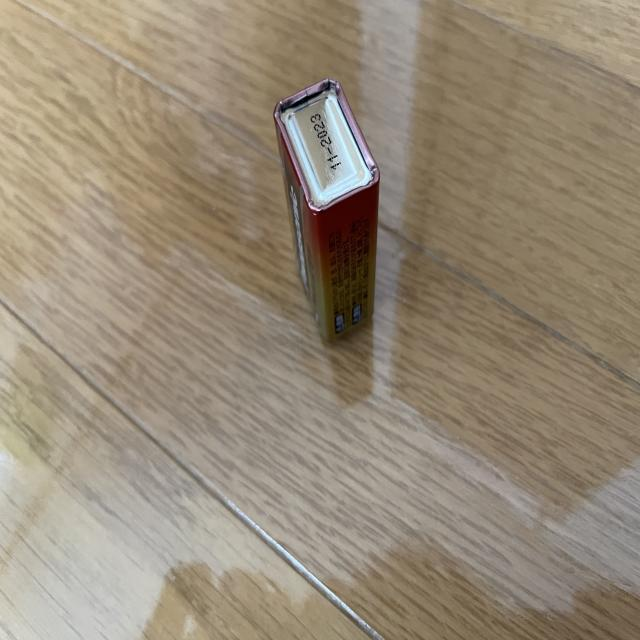9V: (272, 78, 379, 341)
